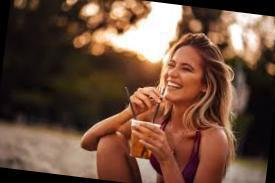Drunk: (163, 45, 203, 103)
